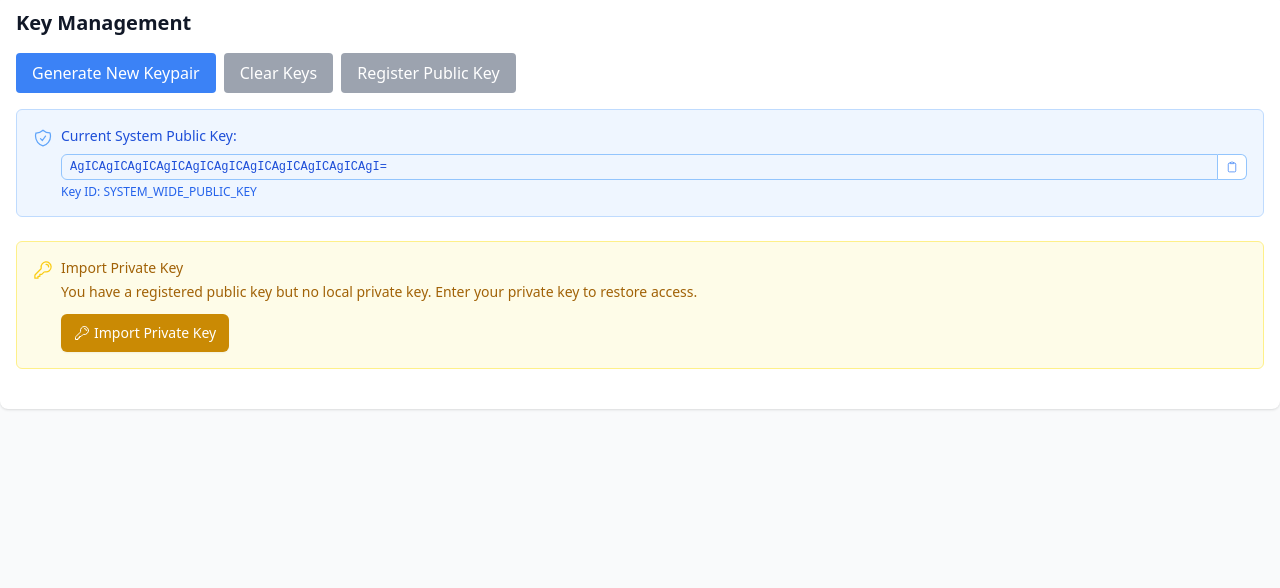
Scenario: Key lifecycle workflow › handles private key import cancellation
# Click the import button to show the form
Click the button "Import Private Key" at (145, 333), box [61,314,229,352]
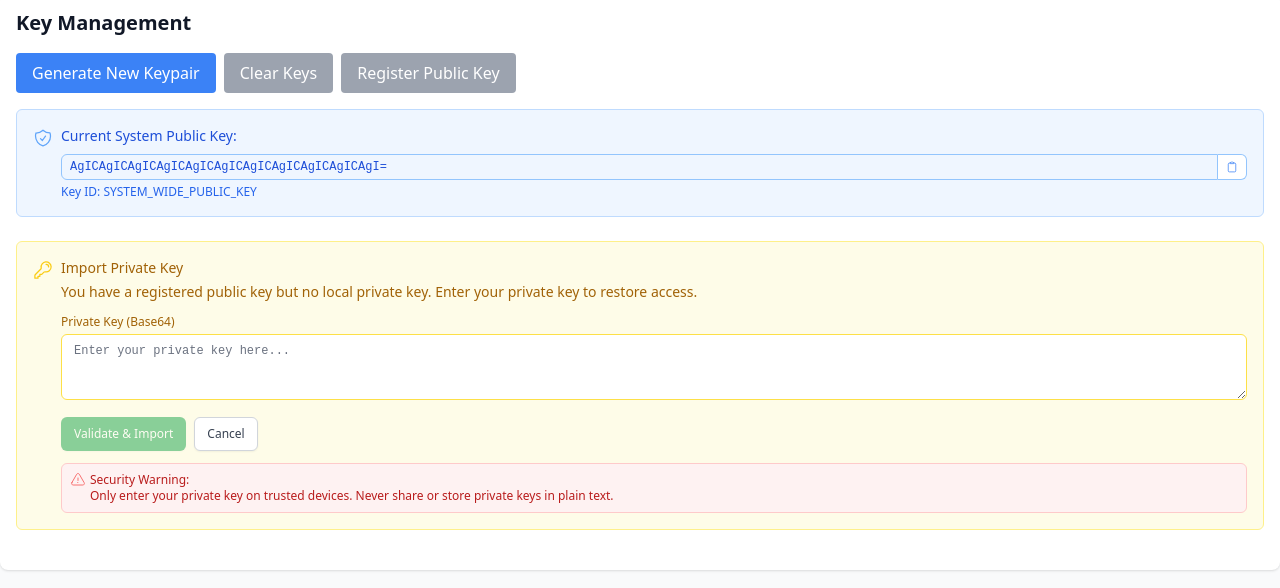
Check: the text box with placeholder "Enter your private key here..." is shown
# Type some text
Type "some-key-text" into the text box with placeholder "Enter your private key here..." at (654, 367), box [61,334,1247,400]
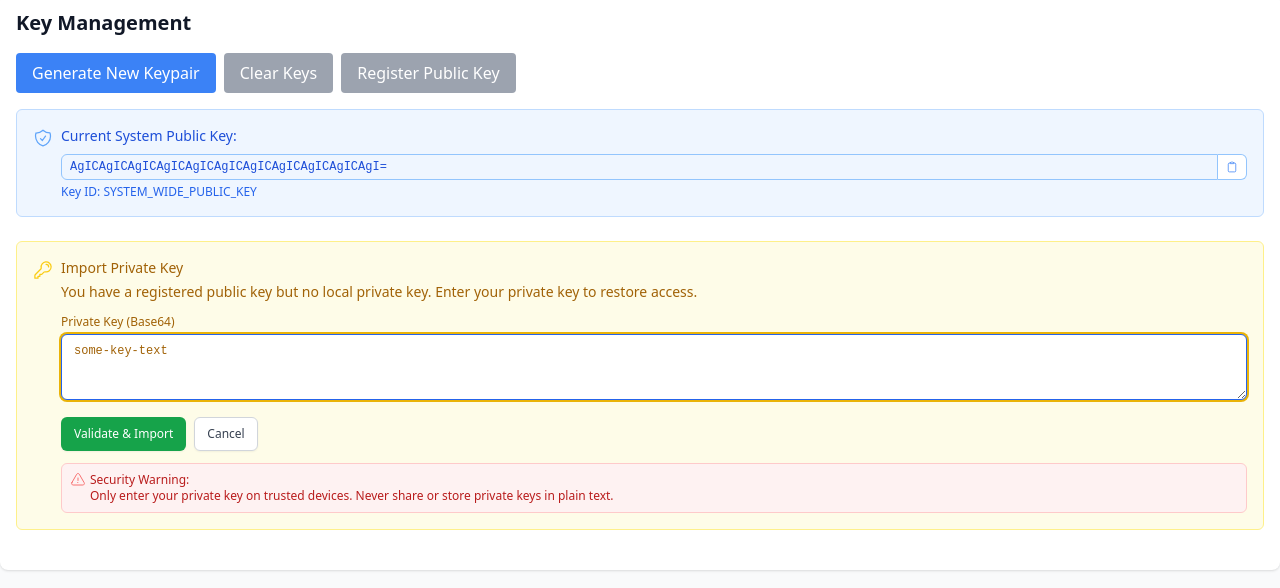
# Click cancel
Click the button "Cancel" at (226, 434), box [194,417,258,451]
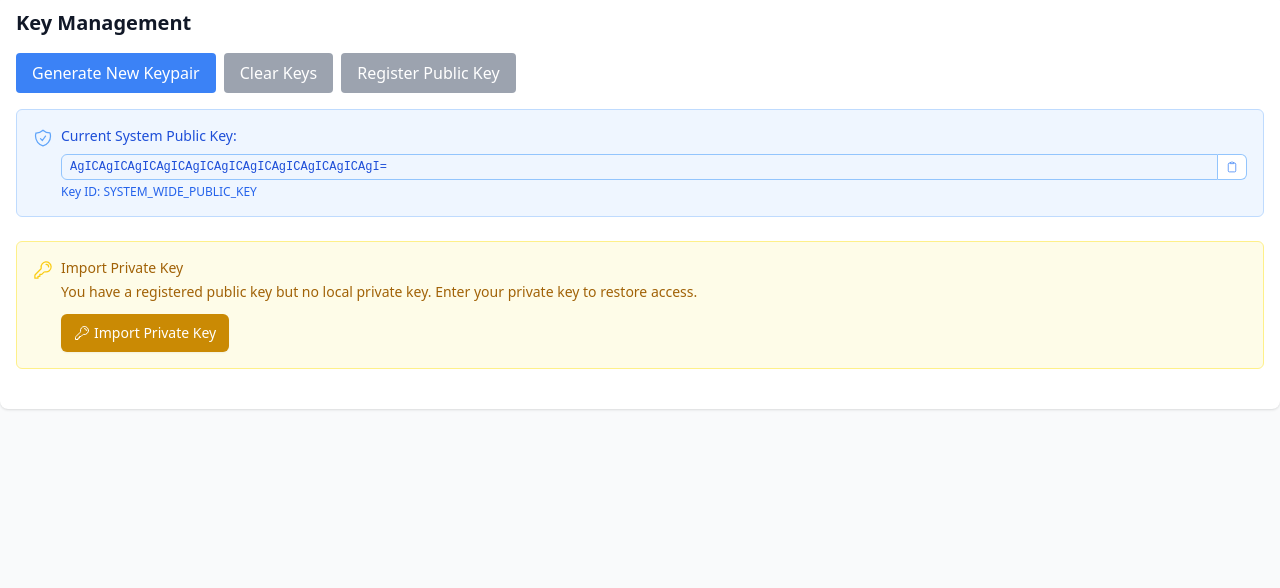
Check: the field with placeholder "Enter your private key here..." is not shown
Check: the button "Import Private Key" is shown, box [61,314,229,352]
